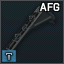Magpul M-LOK AFG tactical grip Olive Drab: (0, 0, 64, 64)
